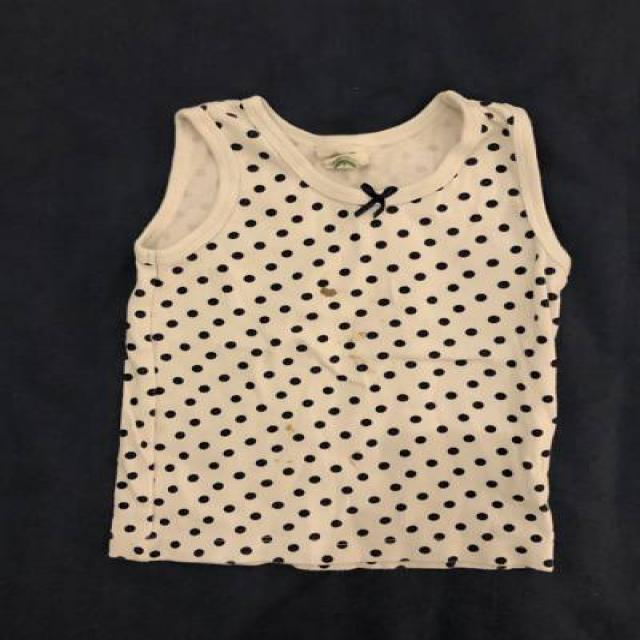Clothes -Biodegradable-: (111, 88, 569, 571)
